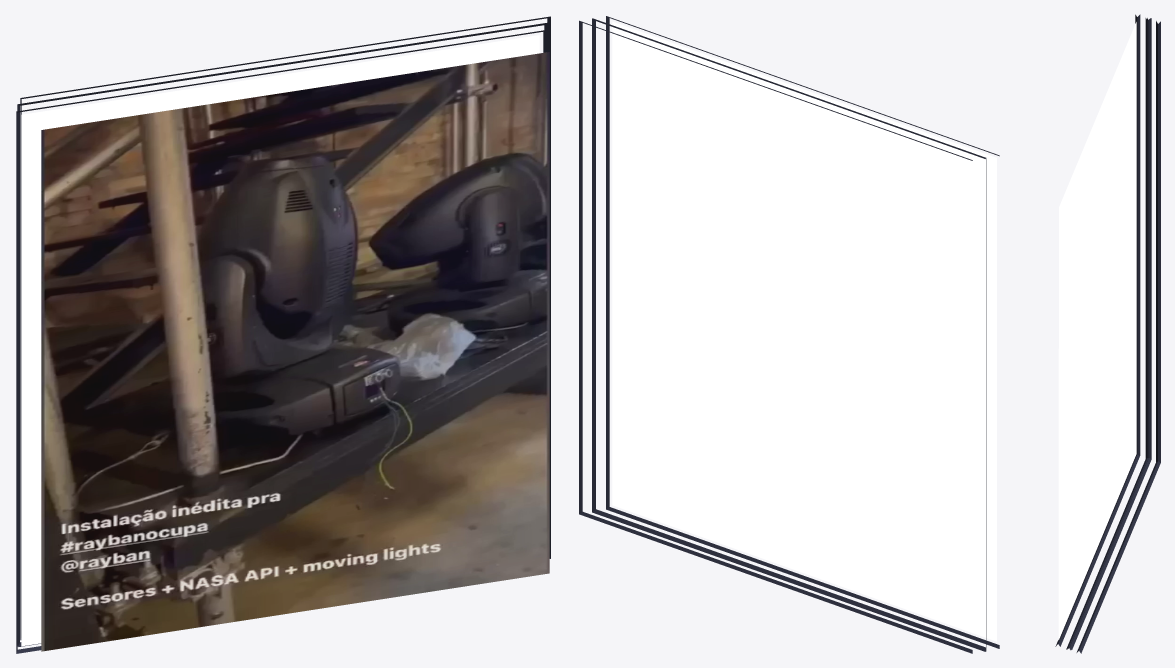
Rendered from TesteCelular2.glb.
3 renders of one model, left to right at view 1: azimuth 30°, elevation 25°; view 2: azimuth 150°, elevation 25°; view 3: azimuth 270°, elevation 25°, orthographic. The views are drawn at different scales.
Parts seen in each view (by area): view 1: Plane.001, Plane.003, Plane.007, Plane.004, Plane.005, Plane.006; view 2: Plane.003, Plane.007, Plane.006, Plane.004, Plane.005; view 3: Plane.003, Plane.007, Plane.004, Plane.006, Plane.005.
Boxes of the visible parts, left/top/right/bottom form: Plane.001: left=41, top=52, right=549, bottom=651; Plane.003: left=21, top=35, right=539, bottom=646; Plane.007: left=20, top=16, right=550, bottom=640; Plane.004: left=16, top=30, right=546, bottom=653; Plane.005: left=18, top=23, right=548, bottom=646; Plane.006: left=17, top=22, right=547, bottom=646; Plane.003: left=612, top=21, right=996, bottom=641; Plane.007: left=579, top=20, right=972, bottom=653; Plane.006: left=592, top=19, right=985, bottom=651; Plane.004: left=606, top=16, right=999, bottom=648; Plane.005: left=592, top=18, right=986, bottom=651; Plane.003: left=1058, top=22, right=1136, bottom=639; Plane.007: left=1076, top=21, right=1160, bottom=653; Plane.004: left=1055, top=14, right=1140, bottom=646; Plane.006: left=1067, top=18, right=1151, bottom=649; Plane.005: left=1066, top=18, right=1150, bottom=650.
Size of the model in its own units: 1.8 by 1.87 by 0.4841.
3 materials, 1 textured.
